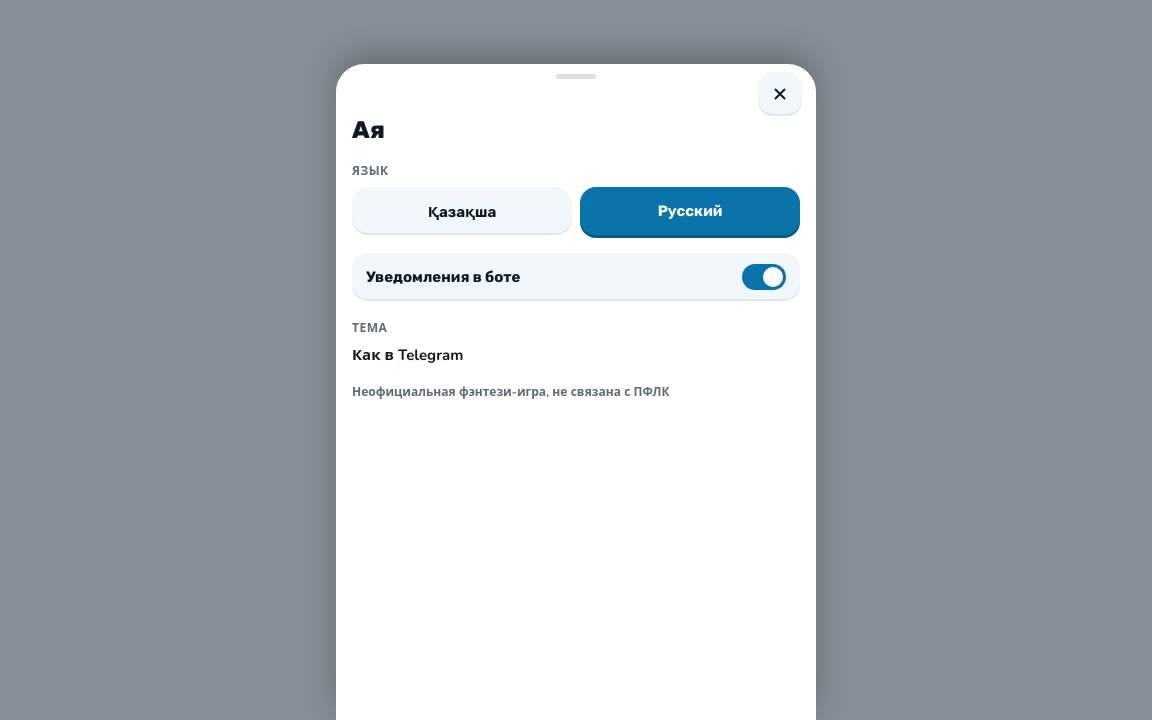
Test: Profile › сервер отказал — переключатель возвращается назад и видна ошибка
This screenshot has width=1152, height=720.
Click the switch labelled "Уведомления в боте": (443, 277) [352,253,800,301]
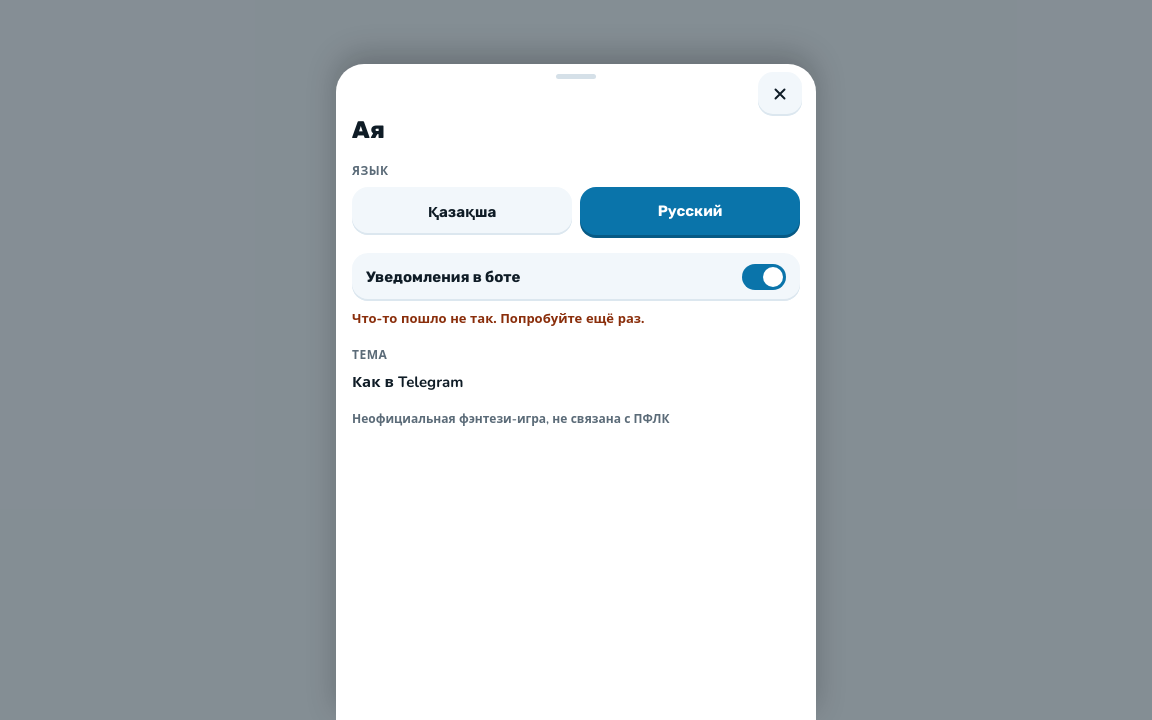
Now the message "Что-то пошло не так. Попробуйте ещё раз." is shown, box [352,310,644,328]
